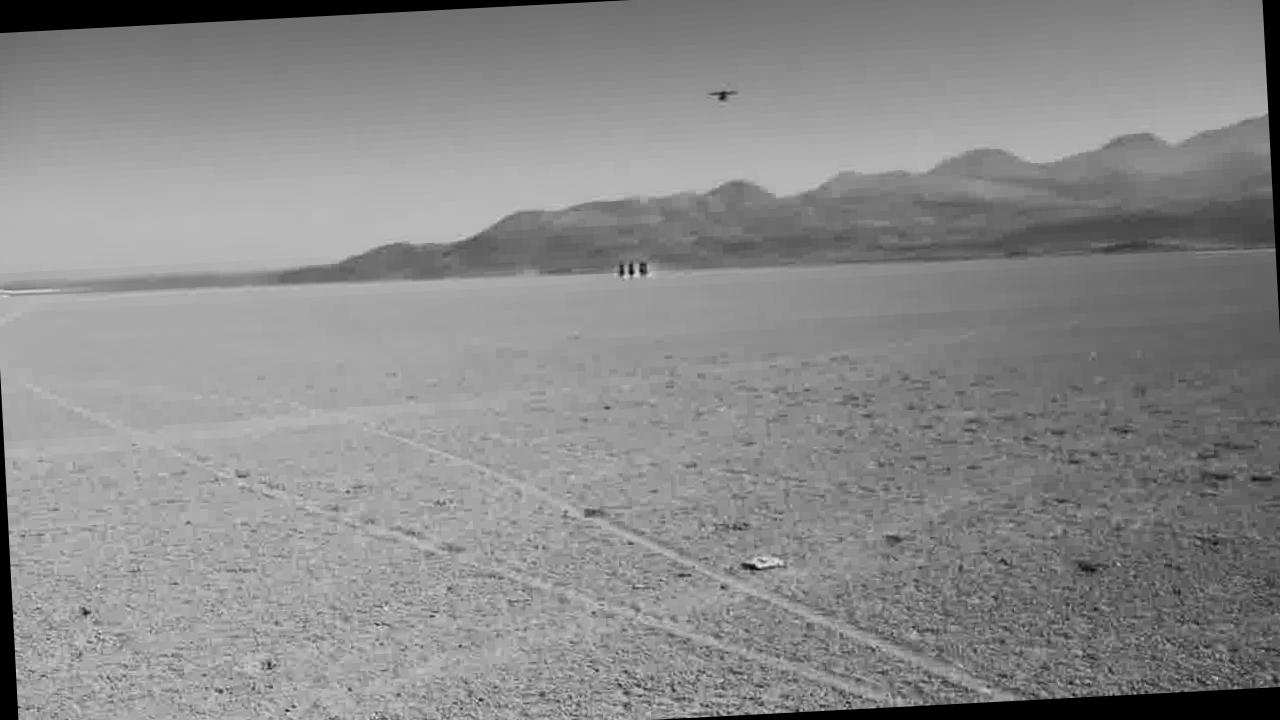drone: (704, 84, 740, 106)
